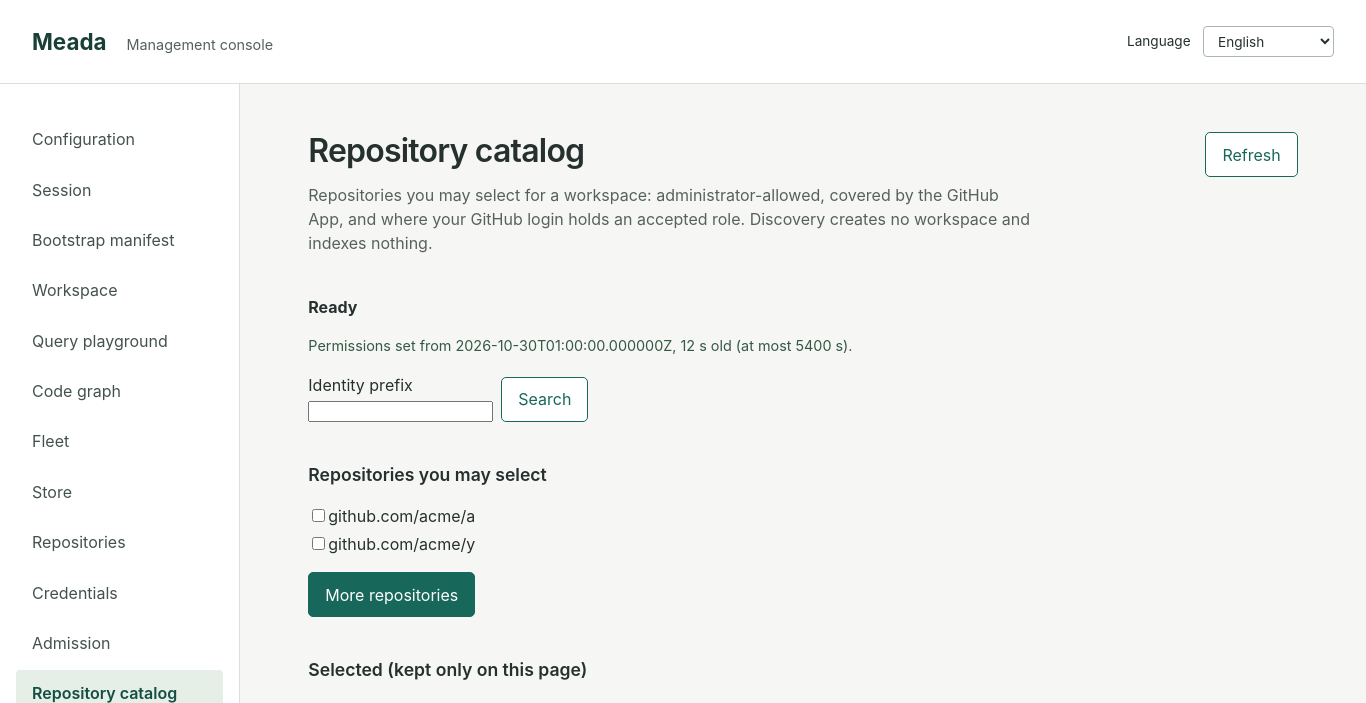
it: the picker lists what the server lists, pages with the cursor and selects locally in en
Expected: the list named "Repositories you may select" is shown, [312,506,475,554]
Expected: the number of checkboxes is 2, [312,509,325,522]; [312,537,325,550]
What coordinates should you click on to do the following:
click the button "More repositories"
I would click on:
 (392, 595)
Its box is [308,572,475,617].
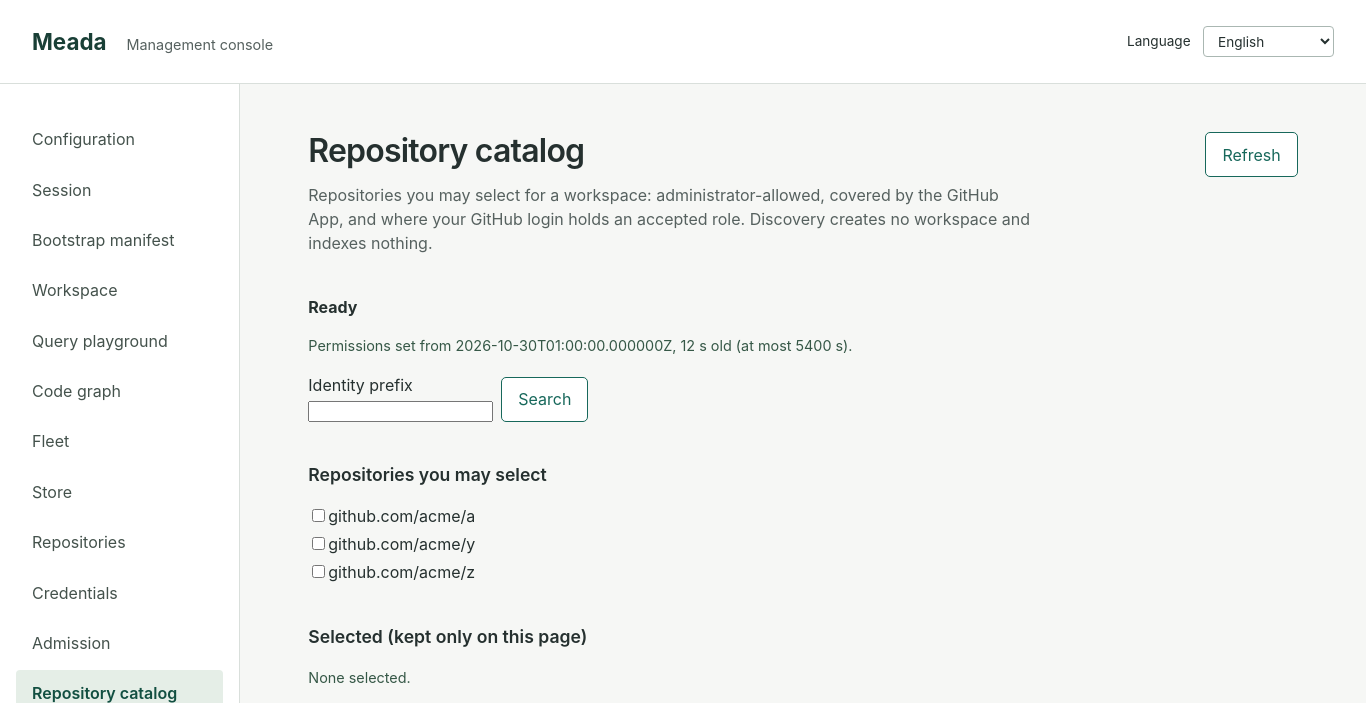
Expected: the number of checkboxes is 3
Expected: the button "More repositories" is gone
What coordinates should you click on to do the following:
click the checkbox labelled "github.com/acme/y"
I would click on:
 (319, 544)
Its box is [312,537,325,550].
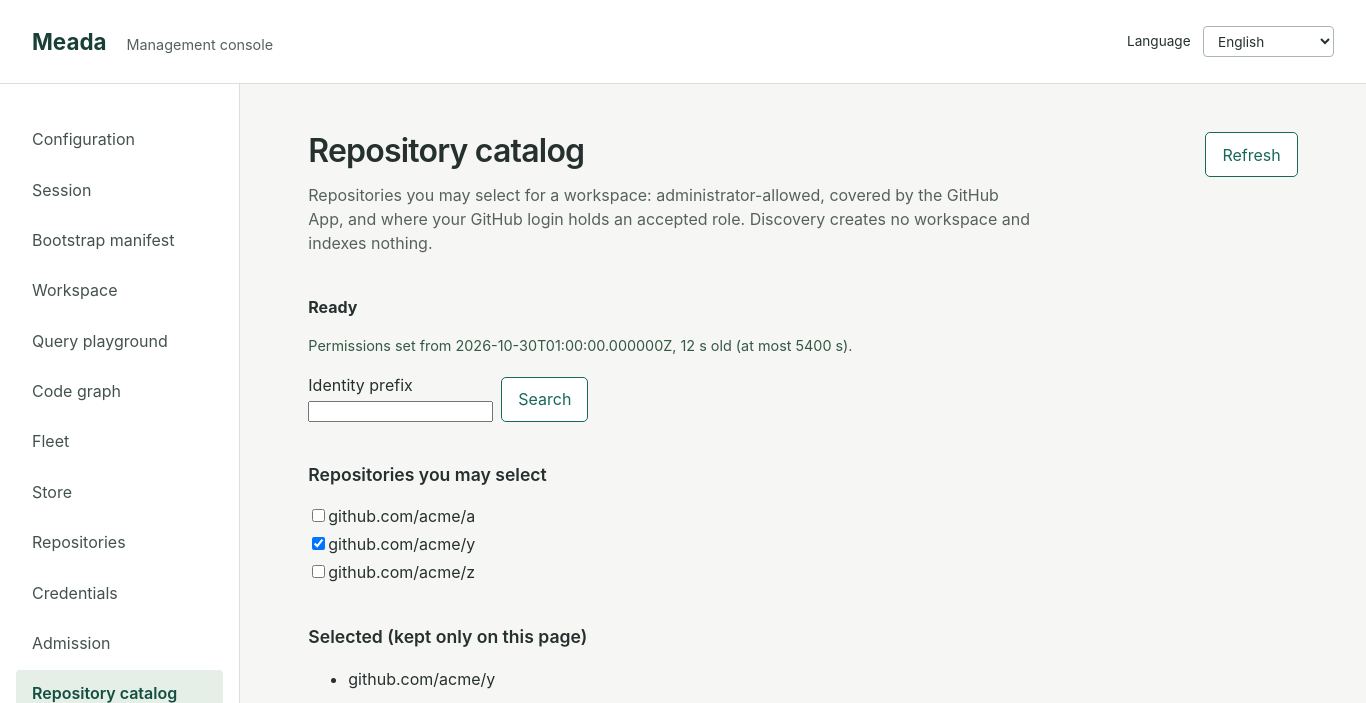
Expected: the list named "Selected (kept only on this page)" reads "github.com/acme/y", [348,669,495,689]
